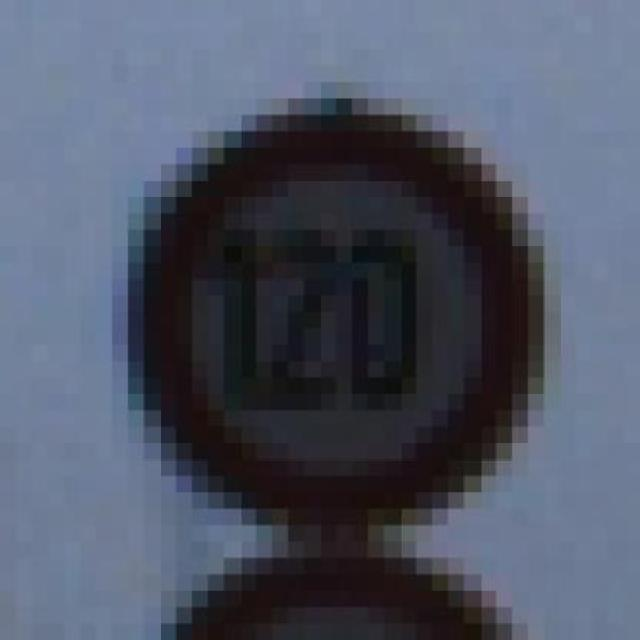forb_speed_over_120: (145, 113, 533, 516)
